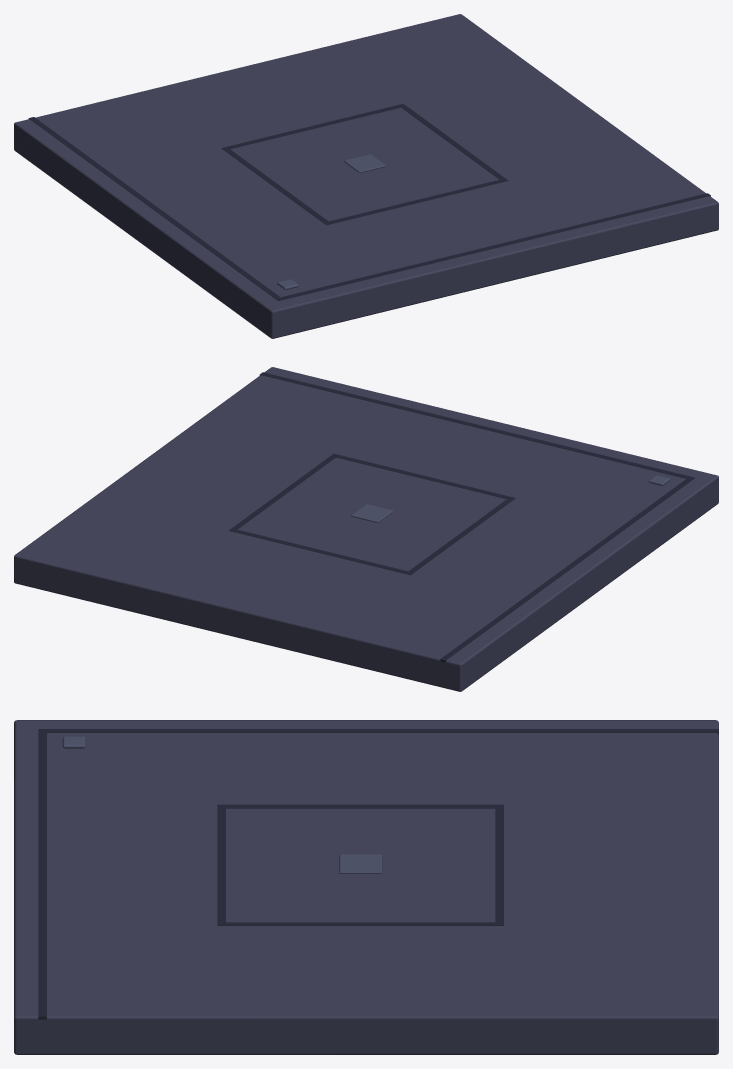
The model's file is floor.plate.WS+sub.glb.
3 renders of one model, top to bottom at view 1: azimuth 30°, elevation 25°; view 2: azimuth 150°, elevation 25°; view 3: azimuth 270°, elevation 25°, orthographic. The views are drawn at different scales.
Parts seen in each view (by area): view 1: floor.plate.WS+sub; view 2: floor.plate.WS+sub; view 3: floor.plate.WS+sub.
Part boxes in pixels (<box>): floor.plate.WS+sub: <box>14,14,718,338</box>; floor.plate.WS+sub: <box>14,367,718,691</box>; floor.plate.WS+sub: <box>14,720,718,1054</box>.
Bounding box in the file's own units: 0.984 × 0.066 × 0.984.
